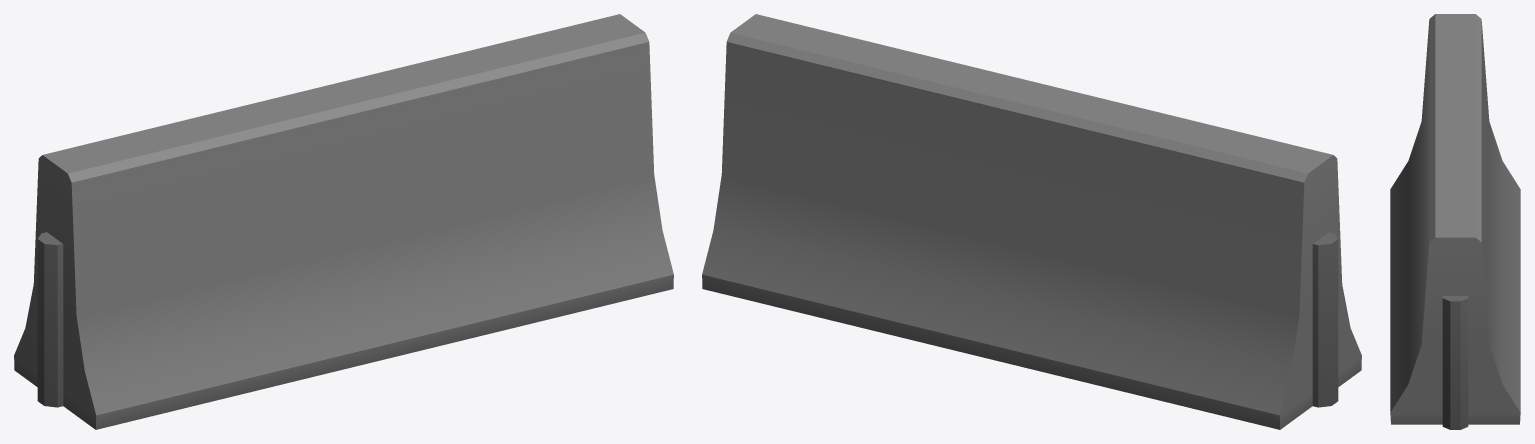
File: ConcreteBlock.fbx
3 renders of one model, left to right at view 1: azimuth 30°, elevation 25°; view 2: azimuth 150°, elevation 25°; view 3: azimuth 270°, elevation 25°, orthographic. The views are drawn at different scales.
Parts seen in each view (by area): view 1: isl_ConcreteBlock_01_DEF.obj; view 2: isl_ConcreteBlock_01_DEF.obj; view 3: isl_ConcreteBlock_01_DEF.obj.
Boxes of the visible parts, box(x1,y1,x2,y2) form: isl_ConcreteBlock_01_DEF.obj: box(14, 14, 673, 429); isl_ConcreteBlock_01_DEF.obj: box(702, 14, 1361, 429); isl_ConcreteBlock_01_DEF.obj: box(1390, 14, 1520, 429).
Bounding box in the file's own units: 215 × 80 × 50.5.
